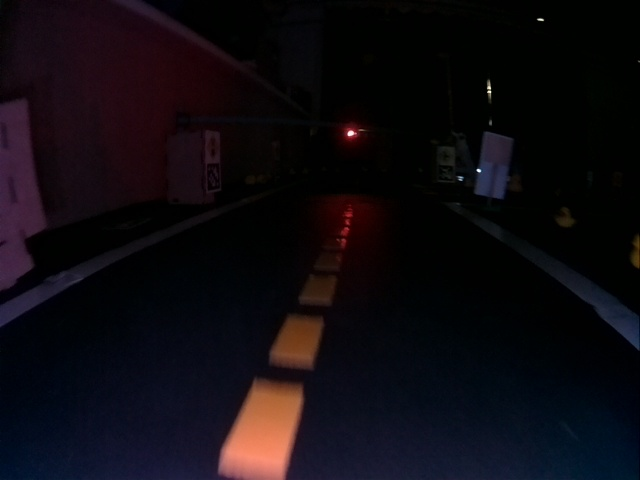Duckie: (556, 206, 575, 228)
Intersection sign: (439, 148, 453, 163)
QR code: (206, 162, 220, 192), (438, 165, 454, 181)
Signal sign: (206, 134, 219, 160)
Traffic light: (344, 127, 358, 139)
